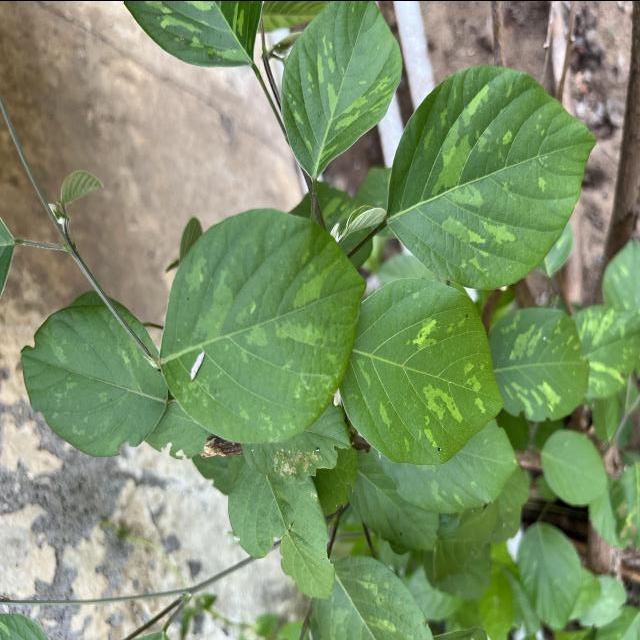Desmodium gangeticum: (383, 61, 600, 293), (334, 273, 509, 468), (279, 0, 406, 182)
